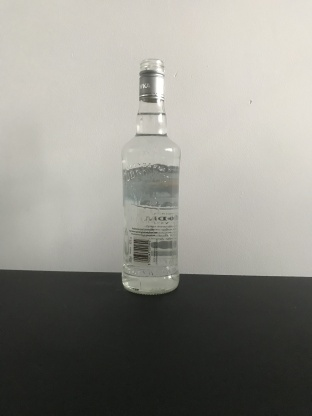nakretka: (137, 57, 167, 104)
